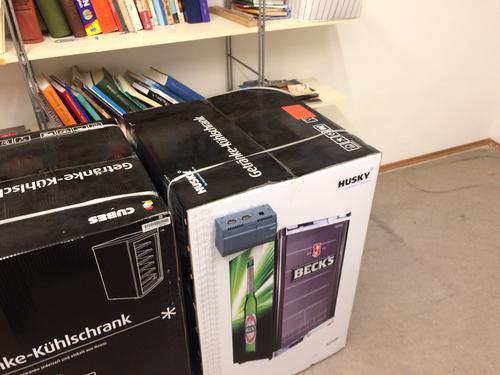iot2000: (215, 203, 279, 259)
